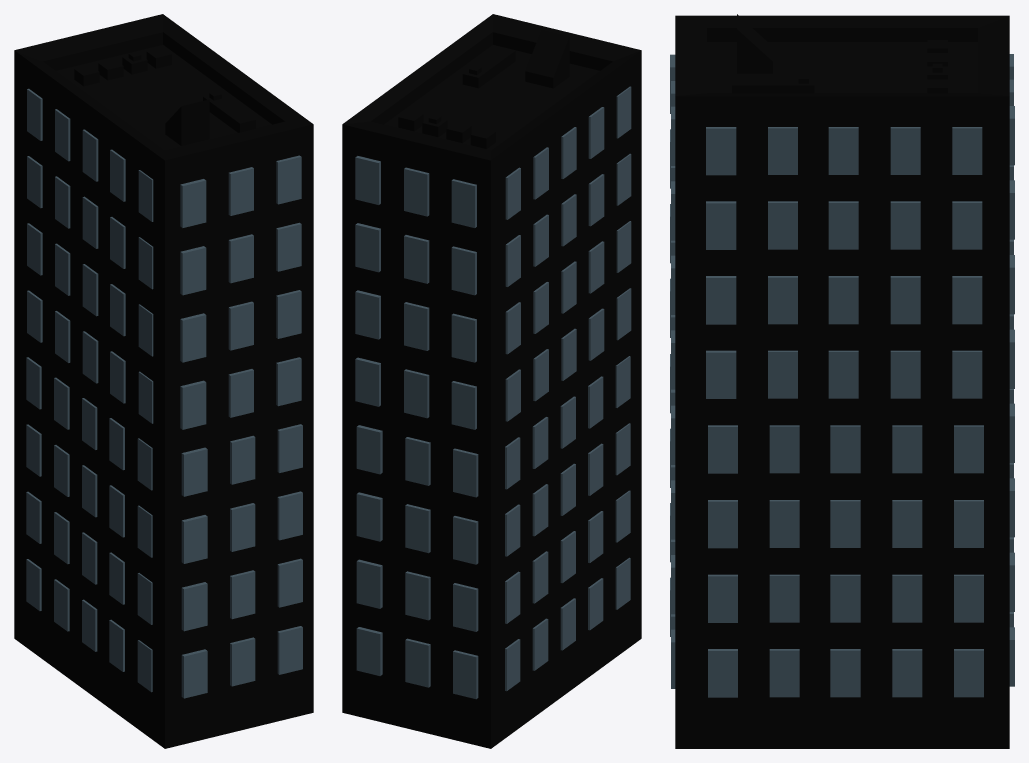
File: Building5fix.glb
3 views of the same model, side by side, from view 1: azimuth 30°, elevation 25°; view 2: azimuth 150°, elevation 25°; view 3: azimuth 270°, elevation 25° (orthographic). The views are drawn at different scales.
Parts seen in each view (by area): view 1: Node; view 2: Node; view 3: Node.
Boxes of the visible parts, x1=… form: Node: x1=14, y1=14, x2=313, y2=748; Node: x1=342, y1=14, x2=641, y2=748; Node: x1=670, y1=14, x2=1014, y2=748.
Size of the model in its own units: 0.3833 by 1.46 by 0.67.
1 material, 1 textured.
